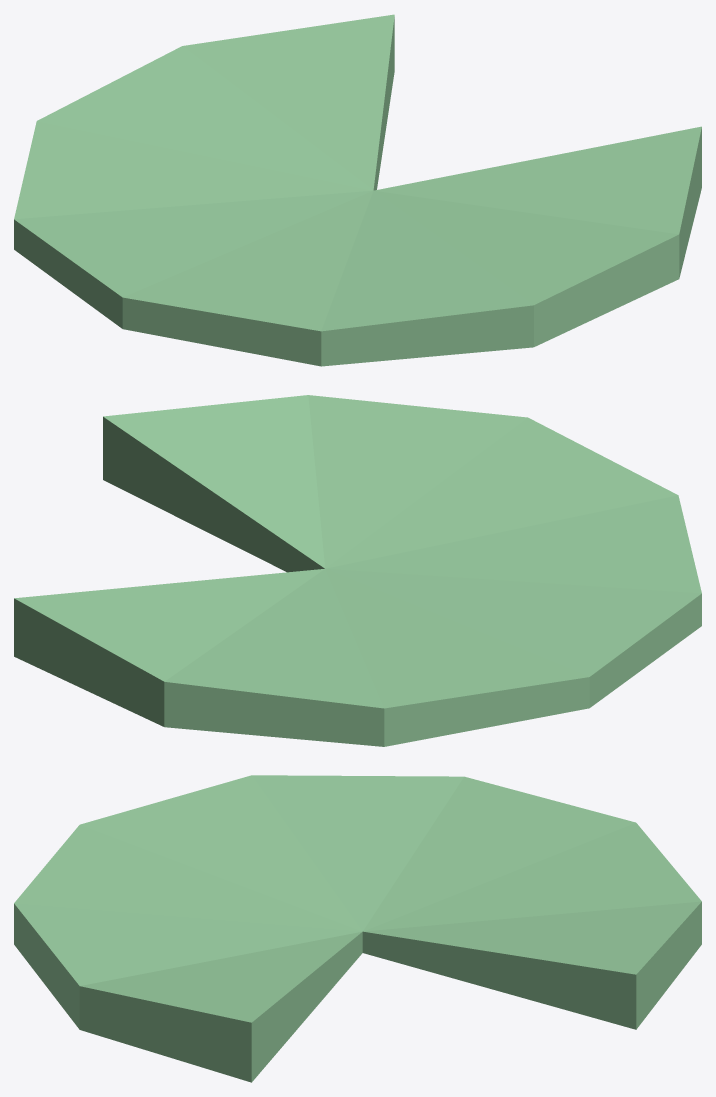
File: LilyPad.fbx
The picture shows the model from 3 angles, top to bottom: view 1: azimuth 30°, elevation 25°; view 2: azimuth 150°, elevation 25°; view 3: azimuth 270°, elevation 25°; orthographic projection. The views are drawn at different scales.
Parts seen in each view (by area): view 1: Cylinder; view 2: Cylinder; view 3: Cylinder.
Boxes of the visible parts, box(x1,y1,x2,y2) form: Cylinder: box(14, 14, 701, 366); Cylinder: box(14, 395, 701, 746); Cylinder: box(14, 775, 701, 1082).
Bounding box in the file's own units: 190 × 19.24 × 200.
